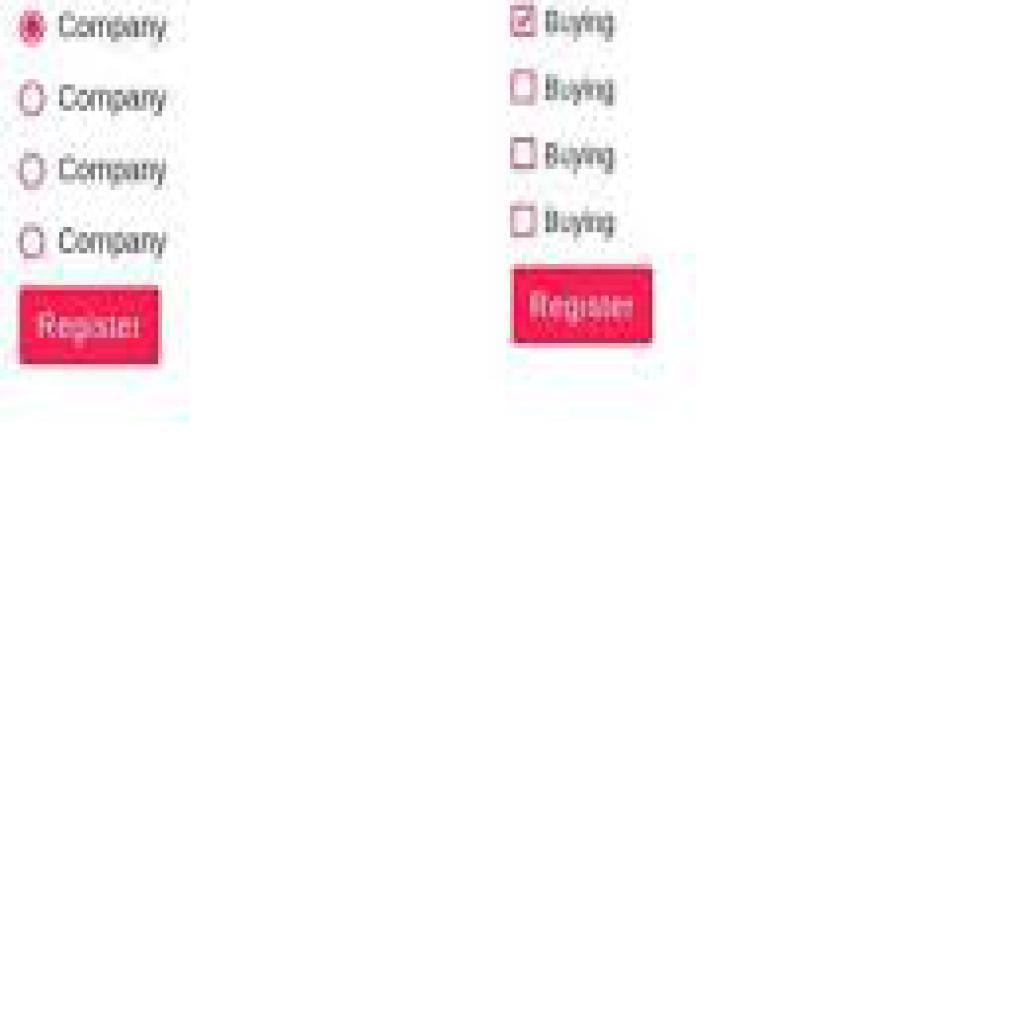button: (20, 286, 163, 364), (513, 267, 652, 346)
checkbox: (510, 69, 537, 105), (511, 137, 539, 171), (512, 205, 539, 238), (511, 7, 539, 37)
label: (56, 216, 172, 260), (59, 6, 170, 51), (57, 82, 172, 121), (56, 150, 166, 190), (545, 5, 625, 46), (540, 69, 625, 107), (541, 202, 625, 239), (543, 134, 620, 174)
radio: (17, 148, 52, 190), (17, 12, 49, 49), (21, 79, 49, 119), (19, 223, 48, 260)
